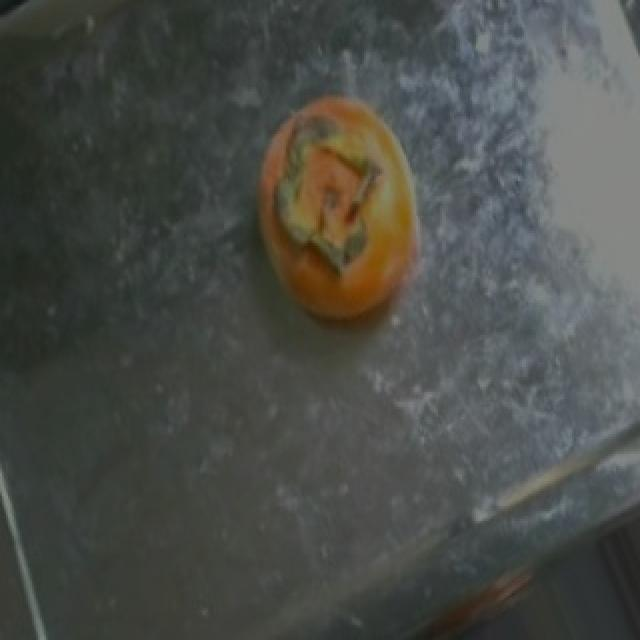Fruit: (234, 80, 446, 348)
